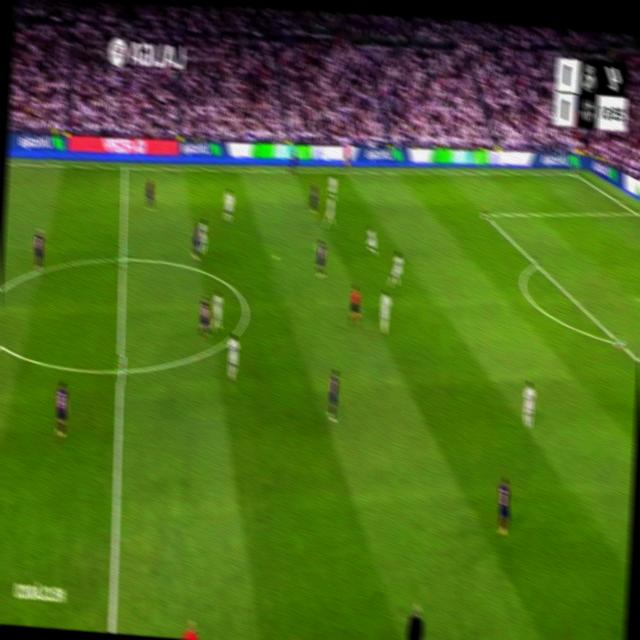bigarea_top_inner: (481, 206, 491, 221)
bottom_arc_area_intersection: (614, 333, 626, 351)
corner: (570, 167, 580, 177)
halfcircle_bottom: (112, 354, 128, 384)
halfcircle_top: (116, 246, 130, 270)
midline_top_intersection: (120, 160, 130, 175)
top_arc_area_intersection: (532, 256, 542, 271)
